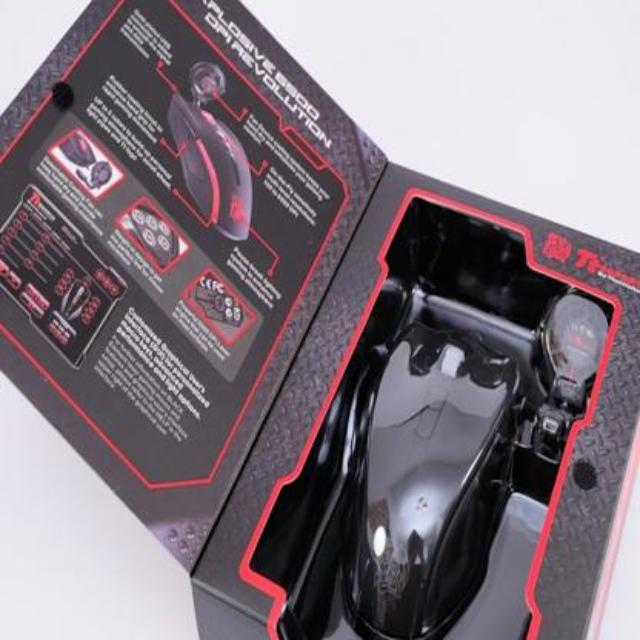Computer-Mouse: (320, 294, 518, 640)
